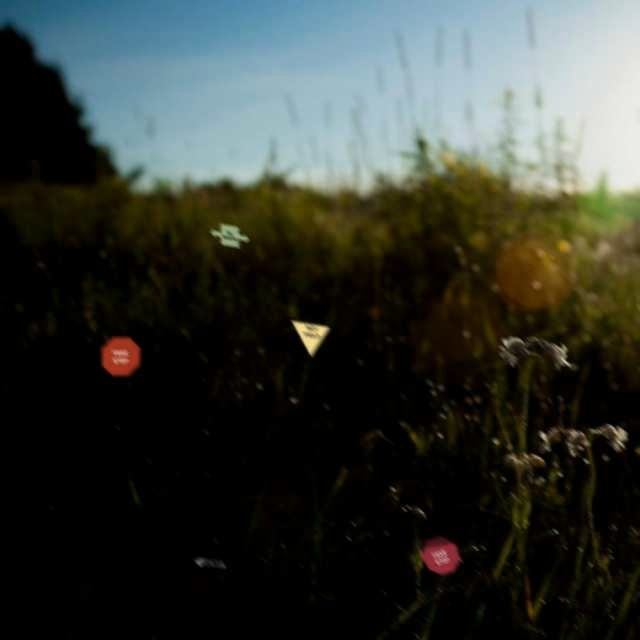FAKE_STOP: (421, 535, 461, 575), (101, 336, 141, 376)
GO_AROUND: (210, 223, 250, 248)
NOT_YIELD: (291, 320, 331, 357)
ONE_WAY_ left: (190, 556, 230, 572)
